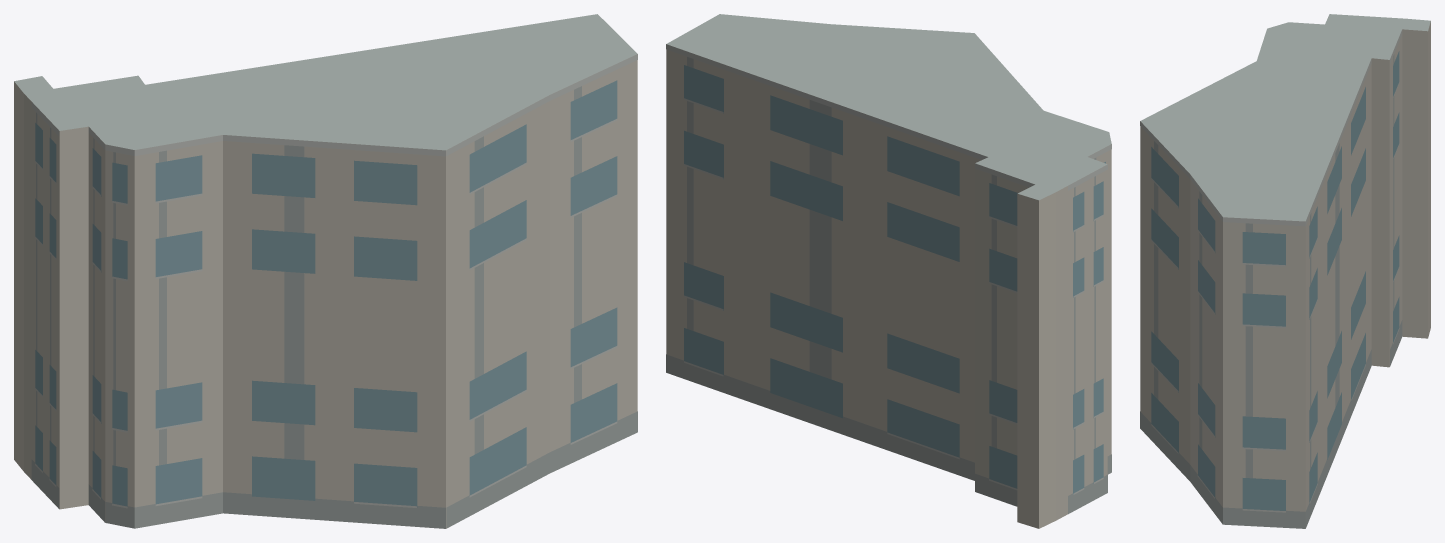
The model's file is survey-upis-32680375.glb.
The picture shows the model from 3 angles, left to right: view 1: azimuth 30°, elevation 25°; view 2: azimuth 150°, elevation 25°; view 3: azimuth 270°, elevation 25°; orthographic projection. The views are drawn at different scales.
Visible parts, largest first — view 1: survey-upis-32680375.tmp; view 2: survey-upis-32680375.tmp; view 3: survey-upis-32680375.tmp.
Boxes of the visible parts, bbox=[...] form: survey-upis-32680375.tmp: bbox=[14, 14, 637, 528]; survey-upis-32680375.tmp: bbox=[666, 14, 1111, 528]; survey-upis-32680375.tmp: bbox=[1140, 14, 1430, 528].
Size of the model in its own units: 22.08 by 15.25 by 13.07.
